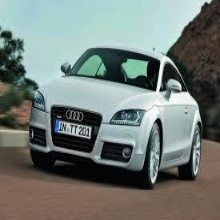no damage: (27, 44, 203, 190)
